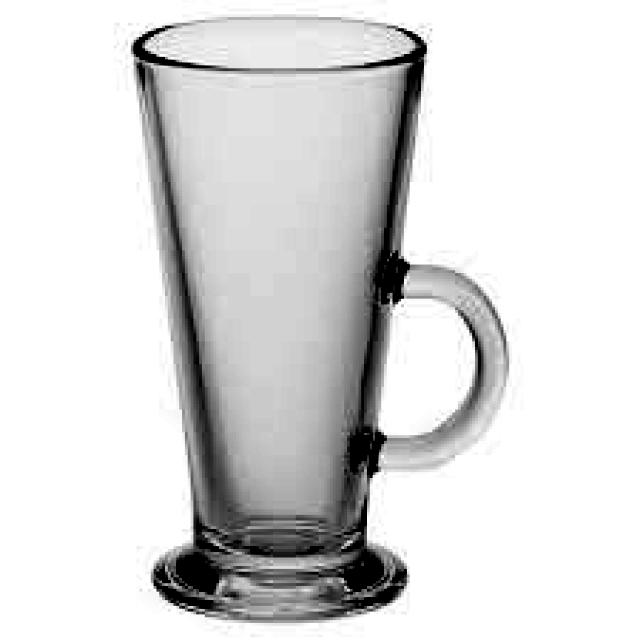Glass: (120, 9, 437, 632)
